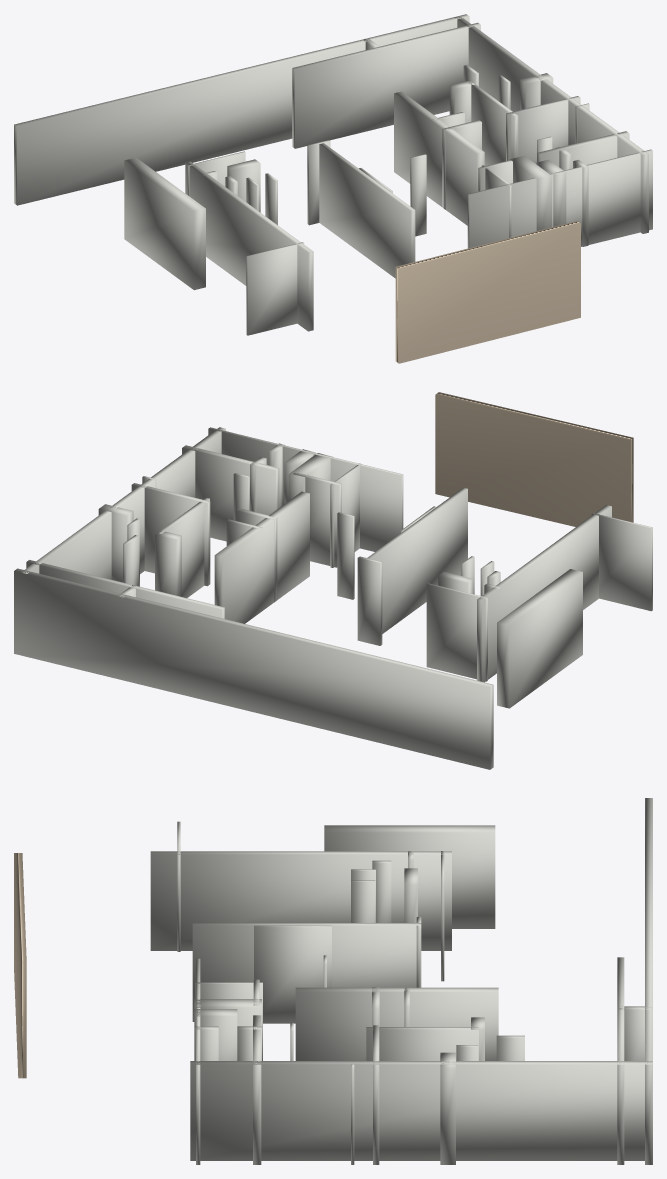
The model's file is plan.edited.wall-hosts-fixed.glb.
The picture shows the model from 3 angles, top to bottom: view 1: azimuth 30°, elevation 25°; view 2: azimuth 150°, elevation 25°; view 3: azimuth 270°, elevation 25°; orthographic projection. The views are drawn at different scales.
Parts seen in each view (by area): view 1: Wall_001 (×2), Wall_002, Wall_017, Wall_024, Wall_019, Wall_020, Wall_027, Wall_036, Wall_018, Wall_010, Wall_033, Wall_015 (+12 smaller); view 2: Wall_001 (×2), Wall_019, Wall_027, Wall_024, Wall_020, Wall_036, Wall_017, Wall_005, Wall_018, Wall_015, Wall_010, Wall_016 (+12 smaller); view 3: Wall_036, Wall_020, Wall_027, Wall_024, Wall_019, Wall_025, Wall_001 (×2), Wall_033, Wall_004, Wall_002, Wall_030, Wall_015 (+11 smaller).
Part boxes in pixels (x1=…): Wall_001 (×2): x1=14, y1=14, x2=580, y2=363; Wall_002: x1=292, y1=22, x2=480, y2=148; Wall_017: x1=467, y1=149, x2=652, y2=248; Wall_024: x1=319, y1=143, x2=415, y2=278; Wall_019: x1=124, y1=157, x2=205, y2=290; Wall_020: x1=185, y1=161, x2=313, y2=331; Wall_027: x1=394, y1=91, x2=484, y2=225; Wall_036: x1=454, y1=16, x2=648, y2=233; Wall_018: x1=246, y1=242, x2=304, y2=335; Wall_010: x1=506, y1=96, x2=580, y2=163; Wall_033: x1=469, y1=82, x2=518, y2=165; Wall_015: x1=537, y1=131, x2=629, y2=168; Wall_001 (×2): x1=14, y1=392, x2=633, y2=769; Wall_019: x1=497, y1=569, x2=582, y2=708; Wall_027: x1=214, y1=491, x2=309, y2=623; Wall_024: x1=367, y1=487, x2=467, y2=633; Wall_020: x1=477, y1=505, x2=611, y2=682; Wall_036: x1=21, y1=427, x2=225, y2=579; Wall_017: x1=208, y1=427, x2=403, y2=551; Wall_005: x1=426, y1=583, x2=487, y2=681; Wall_018: x1=591, y1=513, x2=652, y2=611; Wall_015: x1=182, y1=445, x2=279, y2=541; Wall_010: x1=131, y1=483, x2=210, y2=586; Wall_016: x1=293, y1=472, x2=341, y2=567; Wall_036: x1=190, y1=1061, x2=652, y2=1160; Wall_020: x1=150, y1=851, x2=451, y2=950; Wall_027: x1=295, y1=987, x2=498, y2=1060; Wall_024: x1=192, y1=923, x2=421, y2=1021; Wall_019: x1=324, y1=825, x2=495, y2=928; Wall_025: x1=254, y1=925, x2=331, y2=1023; Wall_001 (×2): x1=14, y1=798, x2=652, y2=1164; Wall_033: x1=366, y1=1027, x2=478, y2=1060; Wall_004: x1=440, y1=1052, x2=455, y2=1164; Wall_002: x1=617, y1=957, x2=624, y2=1164; Wall_030: x1=194, y1=1009, x2=237, y2=1060; Wall_015: x1=253, y1=1015, x2=261, y2=1164.
Bounding box in the file's own units: 15.04 × 3 × 15.01.
